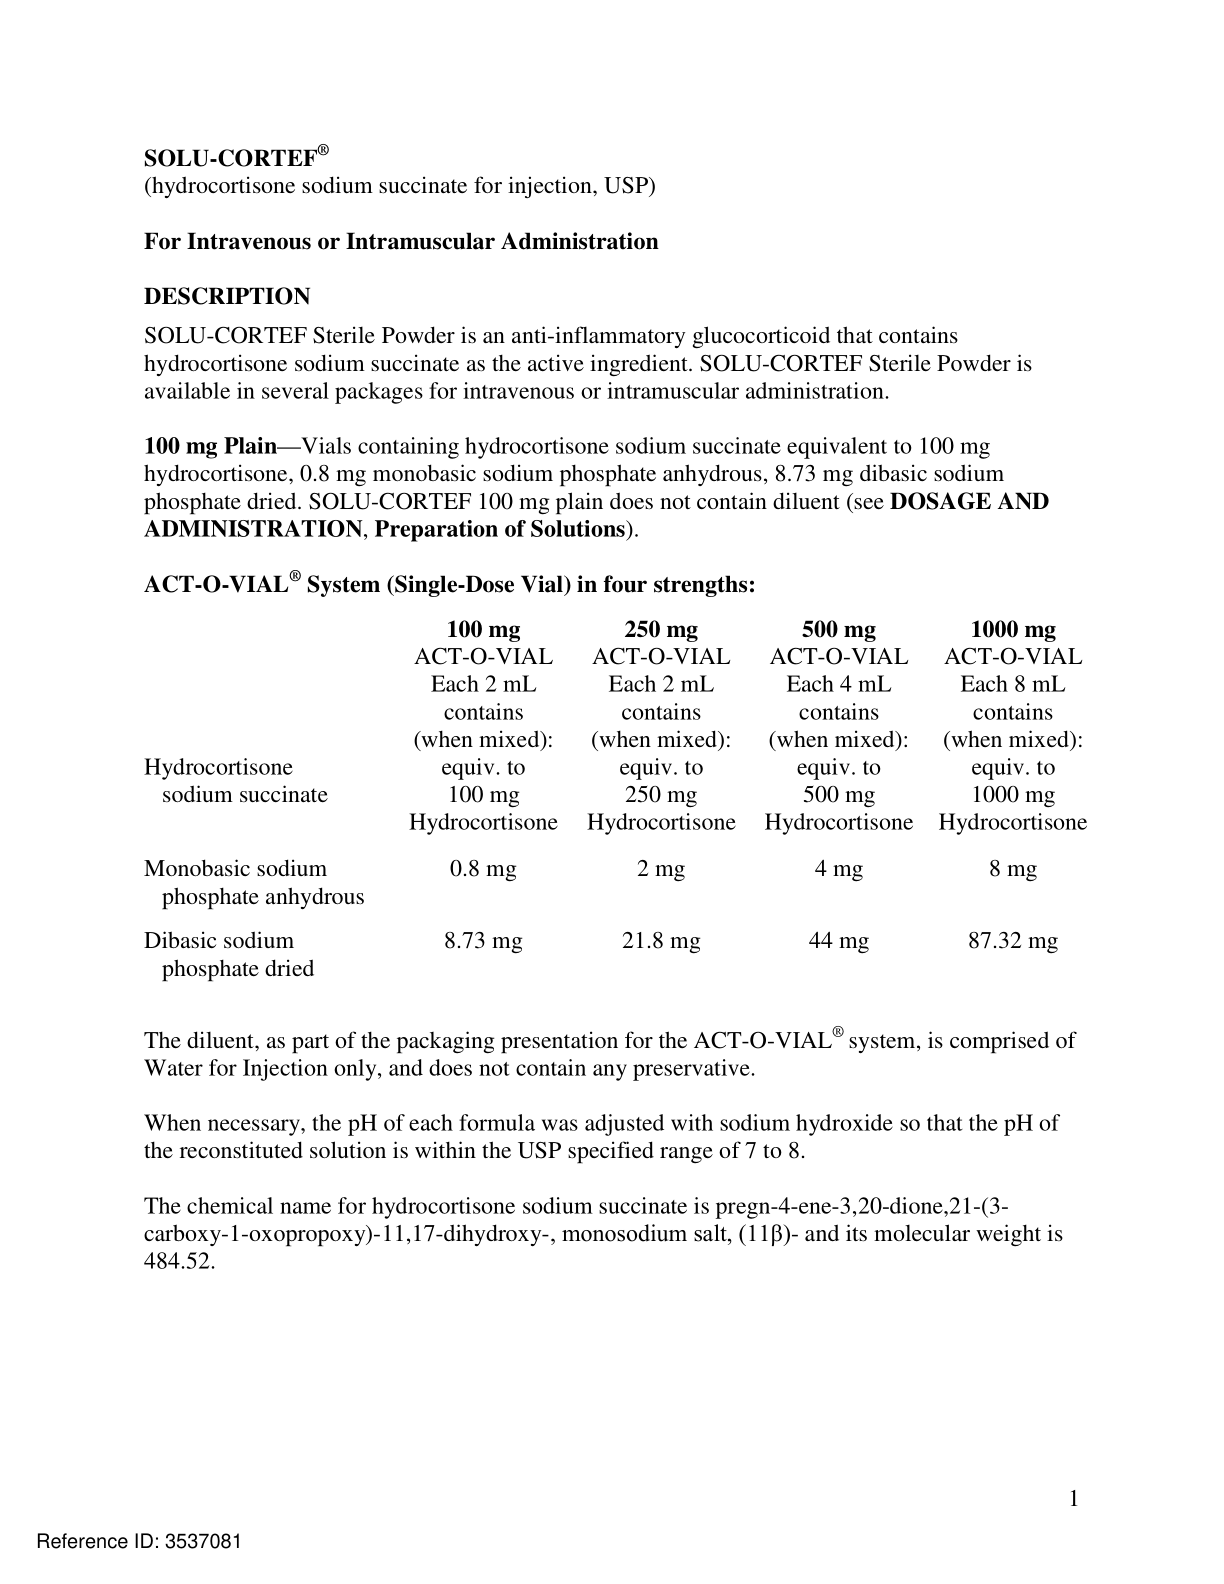nolines: (141, 618, 1090, 982)
